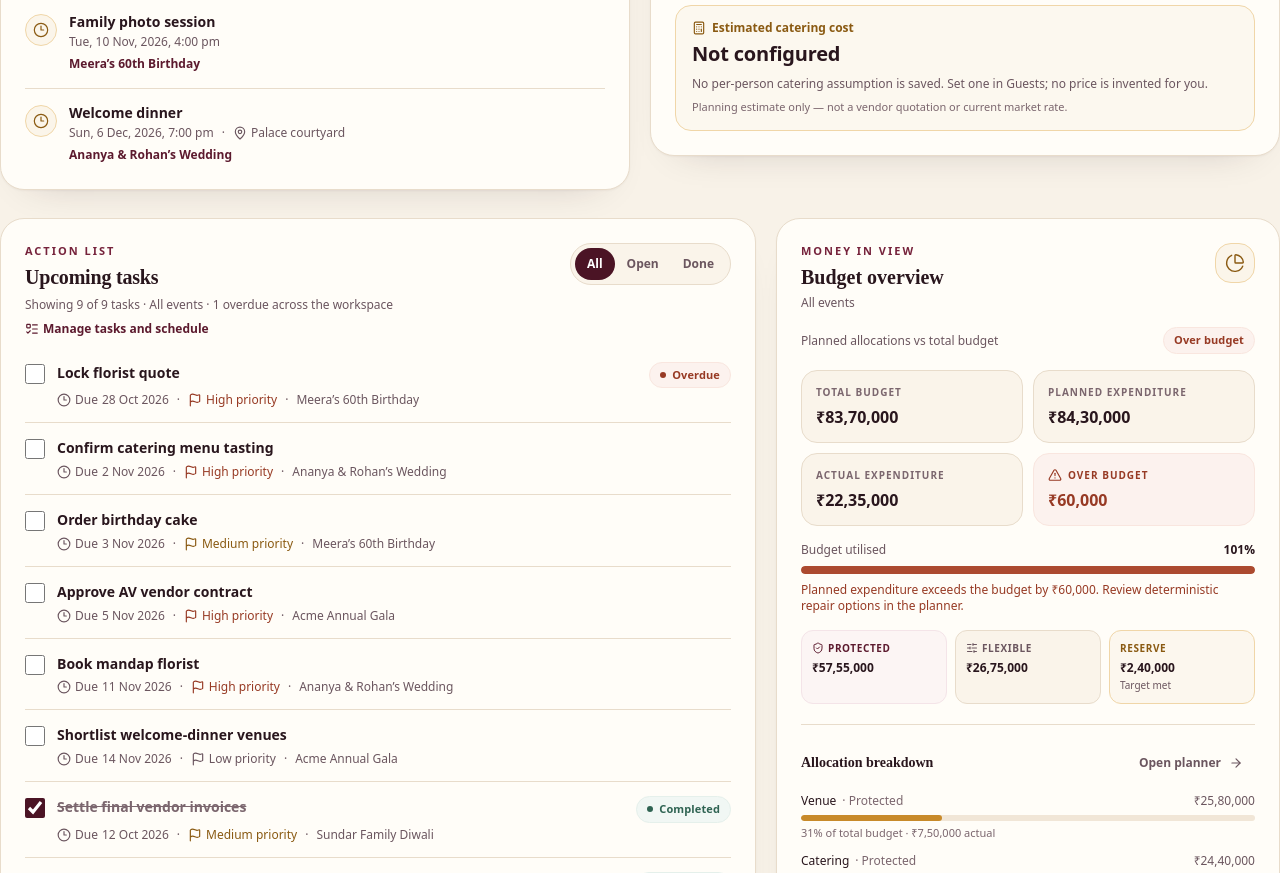
Test: DashboardPage › completes a task and updates progress and the live announcement
The image size is (1280, 873).
(page scrolled)
What coordinates should you click on to do the following:
click the checkbox labelled "Confirm catering menu tasting"
I would click on:
 (35, 449)
Its box is left=25, top=439, right=45, bottom=459.
(page scrolled)
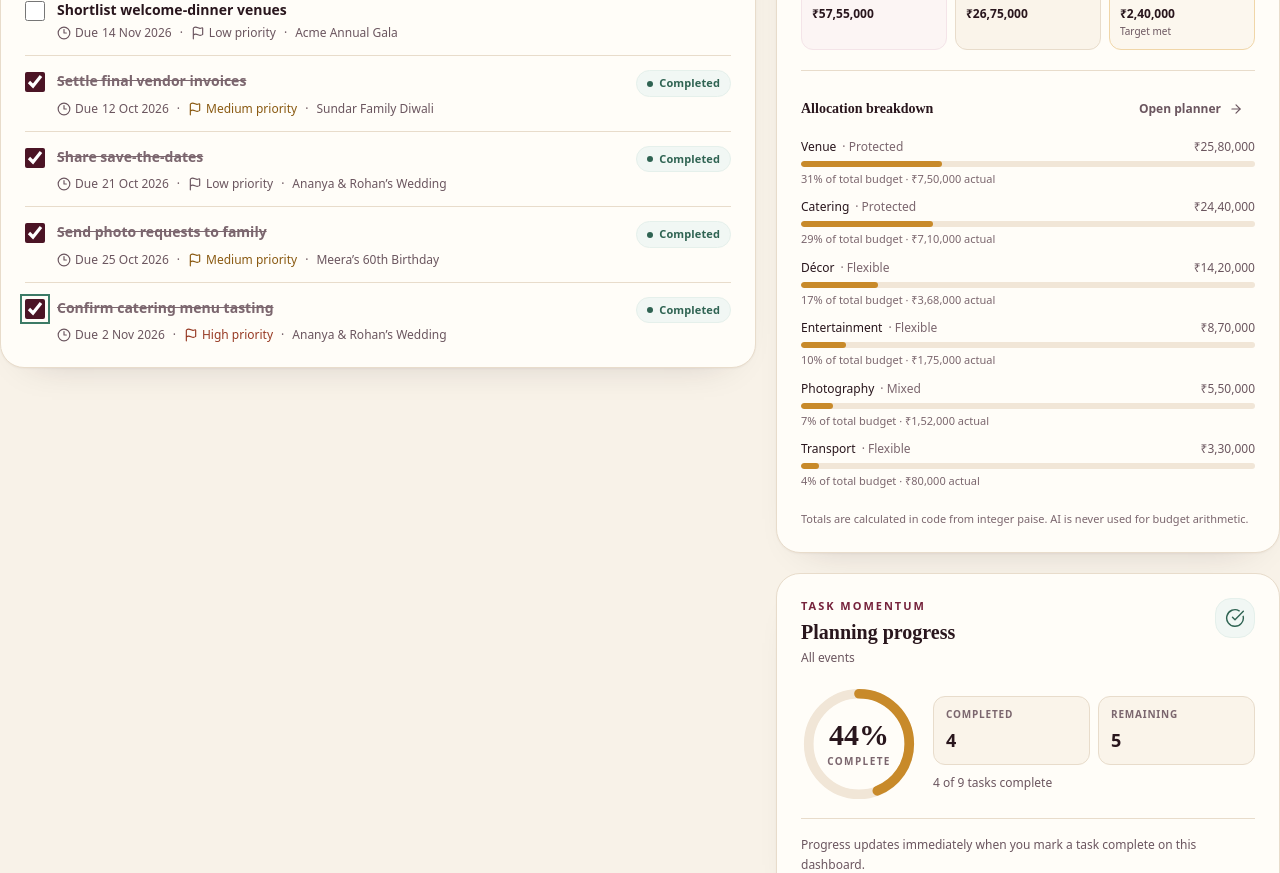
Now the checkbox labelled "Confirm catering menu tasting" is checked, box left=25, top=299, right=45, bottom=319
Now the text "4 of 9 tasks complete" is shown, box left=933, top=774, right=1052, bottom=791
